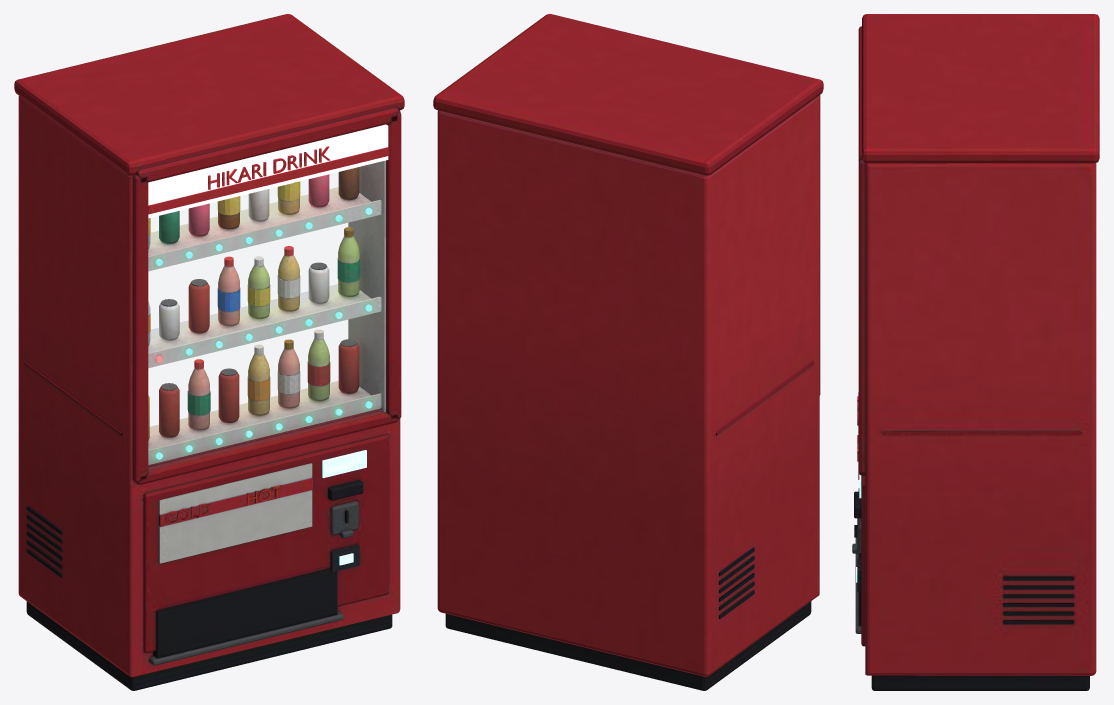
File: vending_red.glb
3 views of the same model, side by side, from view 1: azimuth 30°, elevation 25°; view 2: azimuth 150°, elevation 25°; view 3: azimuth 270°, elevation 25° (orthographic). The views are drawn at different scales.
Visible parts, largest first — view 1: vending_red; view 2: vending_red; view 3: vending_red.
Part boxes in pixels (x1=…): vending_red: x1=14, y1=14, x2=404, y2=690; vending_red: x1=433, y1=14, x2=823, y2=690; vending_red: x1=852, y1=14, x2=1099, y2=690.
Size of the model in its own units: 1.02 by 1.87 by 0.77.
Materials: 2 (1 with a texture image).
